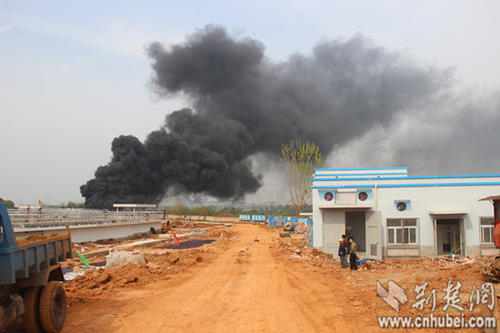smoke: (87, 32, 485, 165)
